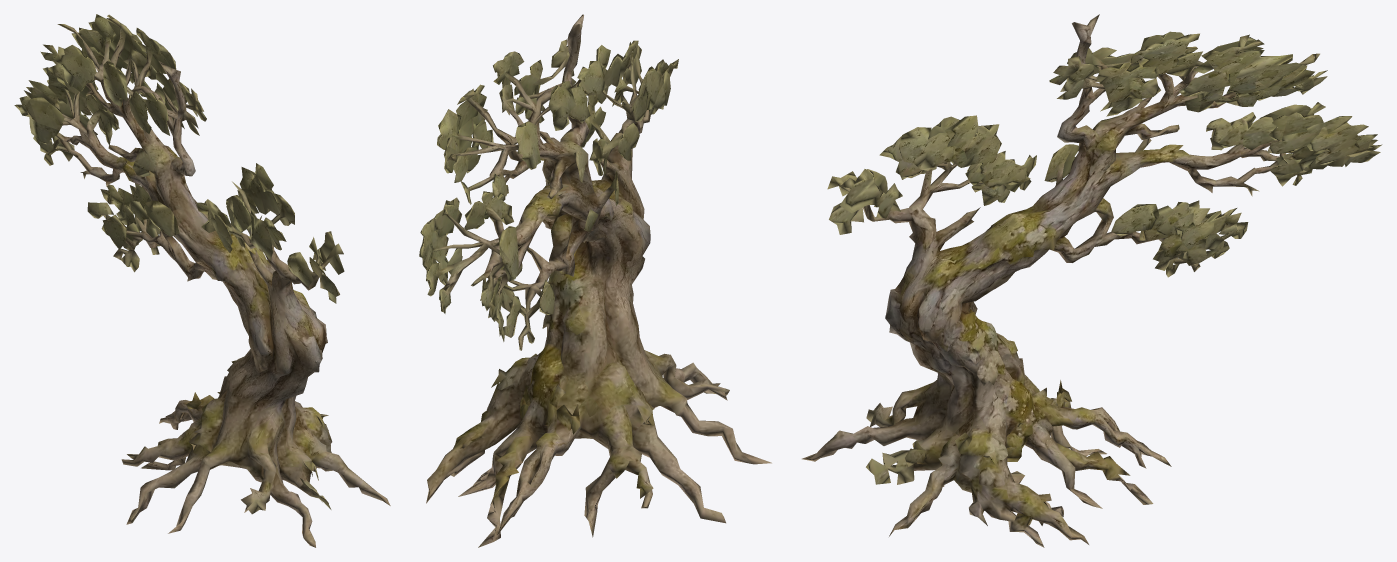
The model's file is wind_tree_b.glb.
3 views of the same model, side by side, from view 1: azimuth 30°, elevation 25°; view 2: azimuth 150°, elevation 25°; view 3: azimuth 270°, elevation 25° (orthographic). The views are drawn at different scales.
Visible parts, largest first — view 1: wind_tree_b__tree; view 2: wind_tree_b__tree; view 3: wind_tree_b__tree.
Boxes of the visible parts, x1,y1,x2,y2 form: wind_tree_b__tree: [14, 14, 390, 547]; wind_tree_b__tree: [419, 14, 771, 547]; wind_tree_b__tree: [802, 14, 1382, 547].
Bounding box in the file's own units: 1.1 × 2.08 × 2.37.
Materials: 1 (1 with a texture image).
